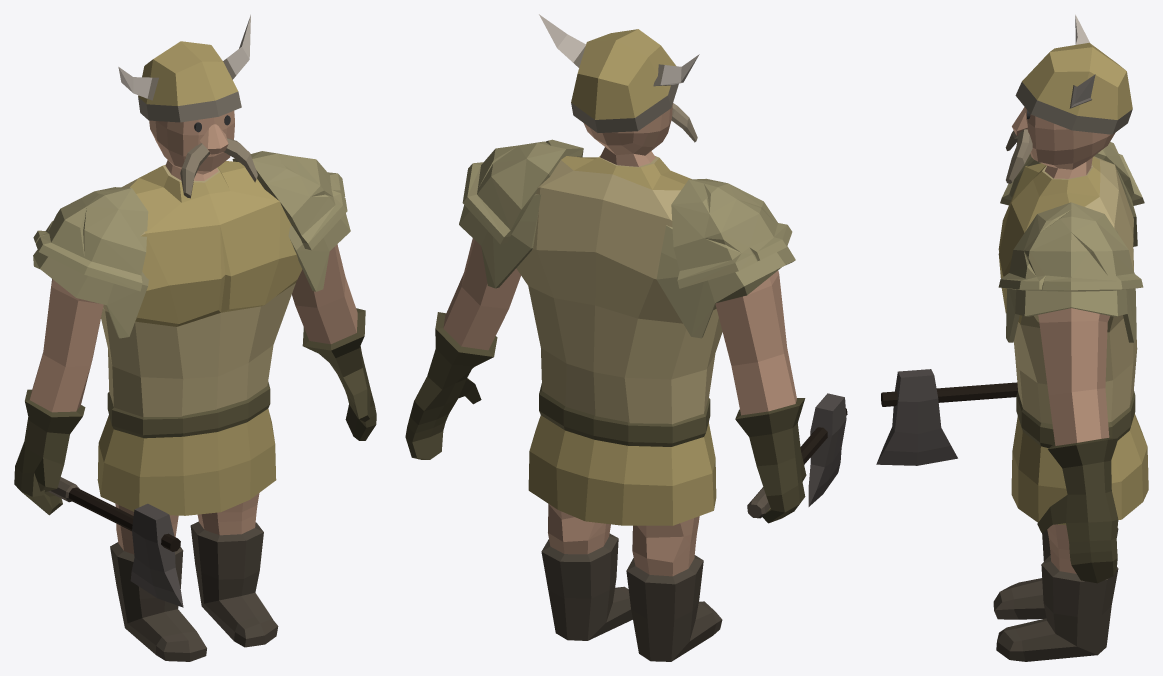
The model's file is dwarf fixed.fbx.
3 renders of one model, left to right at view 1: azimuth 30°, elevation 25°; view 2: azimuth 150°, elevation 25°; view 3: azimuth 270°, elevation 25°, orthographic. The views are drawn at different scales.
Parts seen in each view (by area): view 1: Dwarf; view 2: Dwarf; view 3: Dwarf.
Boxes of the visible parts, x1,y1,x2,y2 form: Dwarf: (14,15,376,661); Dwarf: (405,14,847,661); Dwarf: (876,14,1148,661).
Bounding box in the file's own units: 4.4 × 6.93 × 2.87.
